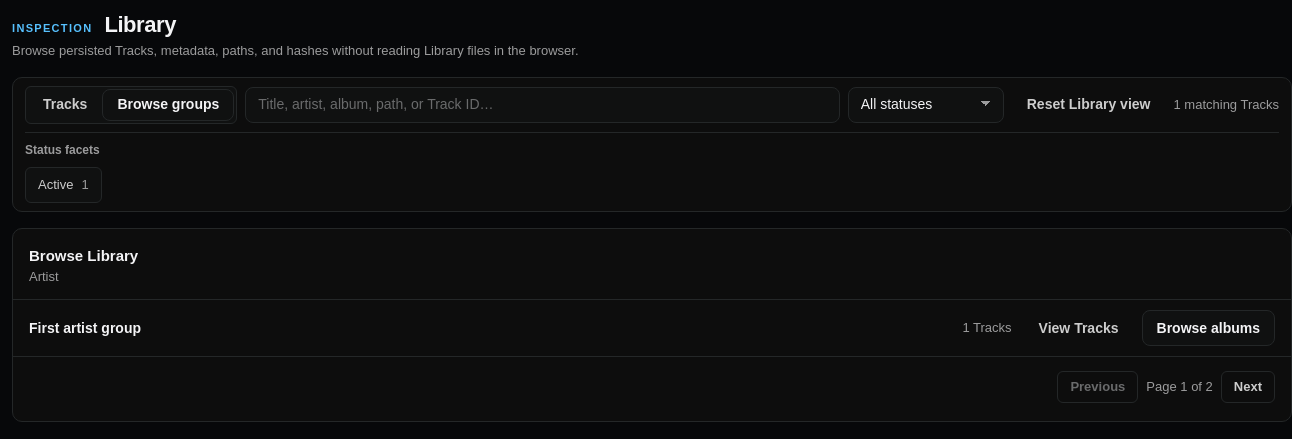
it: Library inspection › renders only the selected Library group cursor page
This screenshot has width=1292, height=439.
Expected: the text "First artist group" is shown, [29,317,141,338]
Click the button with aria-label "Next page of Library groups". click: {"x": 1248, "y": 387}
box: [1221,371,1275,403]
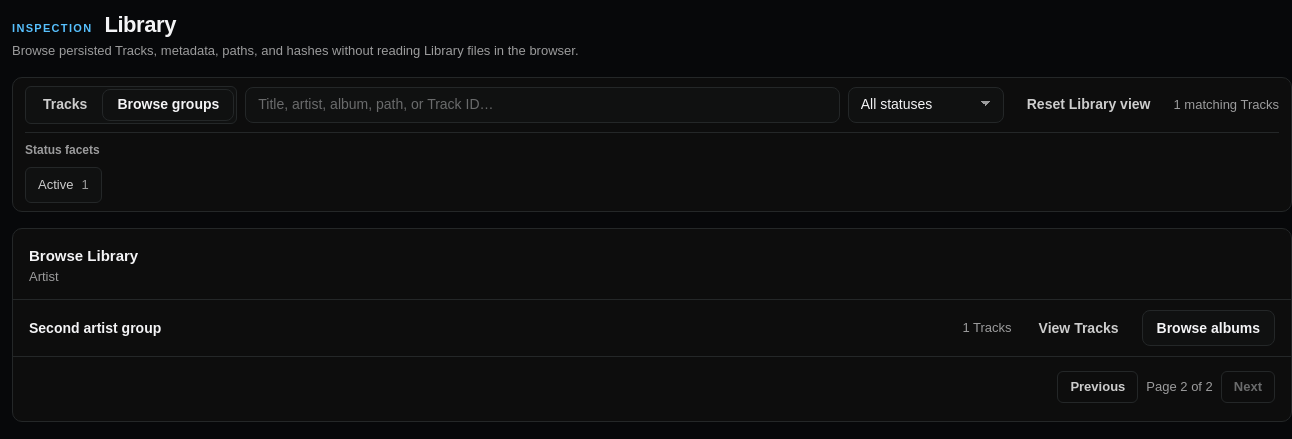
Expected: the text "Second artist group" is shown, [29,317,161,338]
Expected: the text "First artist group" is gone
